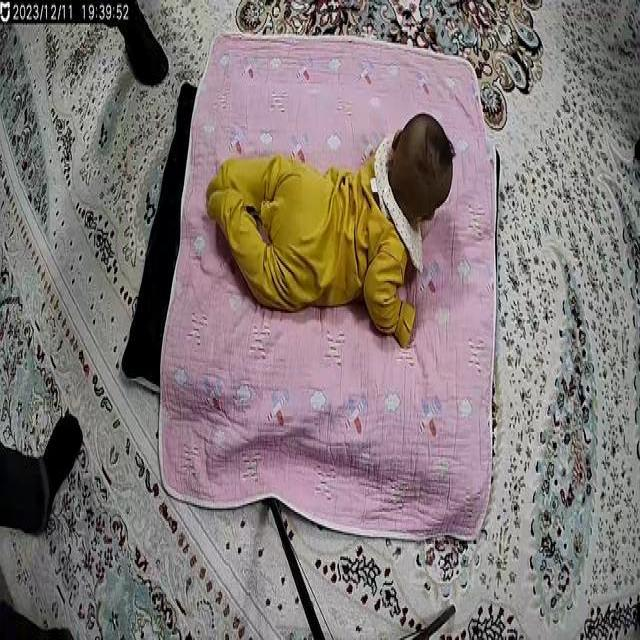baby: (198, 107, 456, 350)
